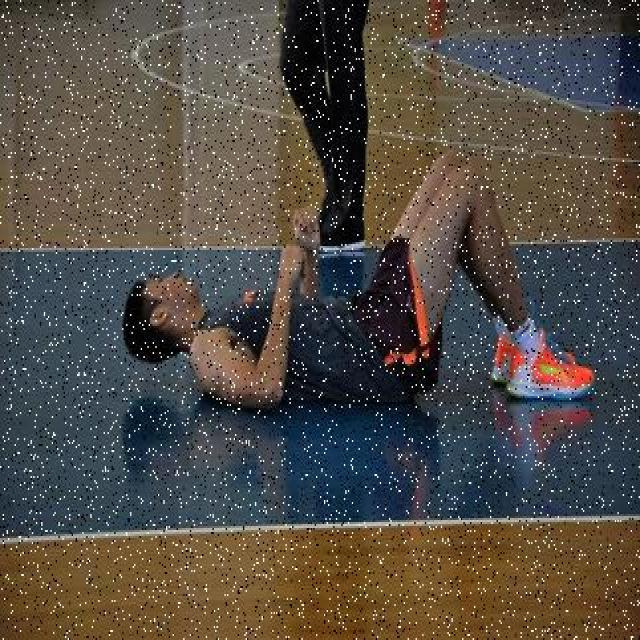fall: (122, 166, 574, 406)
